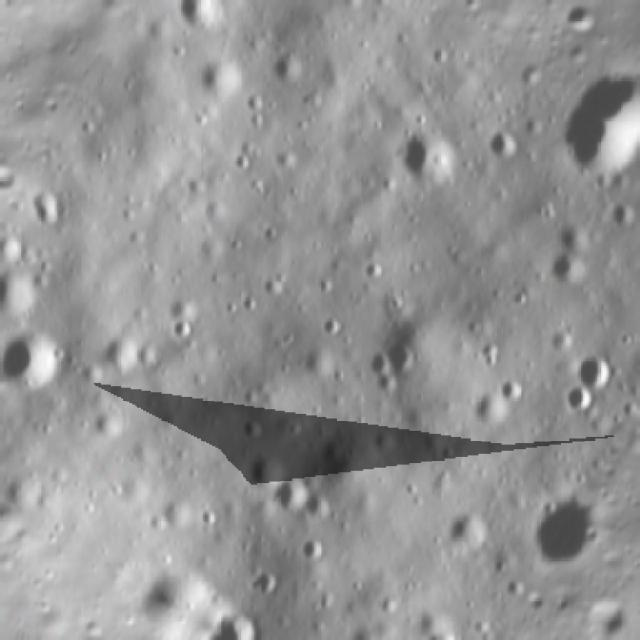crater: (532, 100, 640, 208), (344, 313, 444, 416), (381, 108, 477, 205), (0, 312, 85, 420), (186, 46, 262, 122), (434, 500, 503, 568), (458, 378, 527, 444), (0, 255, 54, 337), (564, 338, 628, 402), (260, 464, 323, 528), (542, 208, 604, 267), (165, 0, 241, 48), (472, 118, 534, 176), (548, 374, 609, 432), (204, 589, 273, 640), (536, 240, 595, 298), (404, 607, 480, 640), (87, 399, 136, 448), (292, 526, 342, 574), (242, 560, 290, 608), (492, 370, 538, 416), (157, 308, 205, 352), (600, 197, 640, 241), (623, 172, 640, 236)
